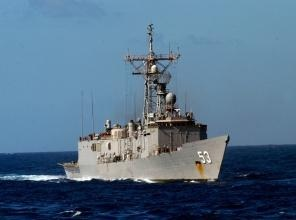warship: (59, 20, 231, 183)
